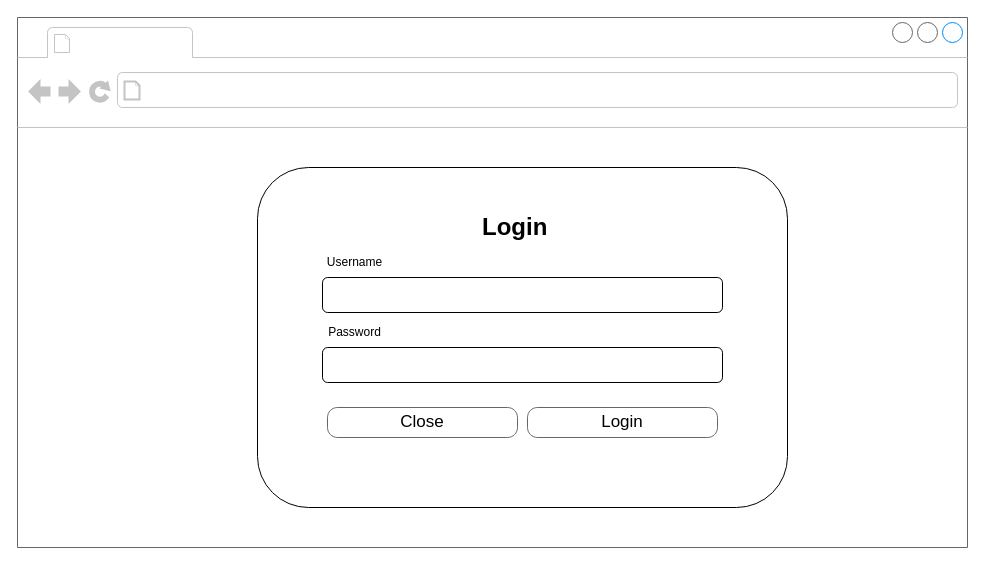
This 985x565 diagram has some shape labels left out. The centre of each missing label's shape, as x and y in pixels:
https://www.default.com: point 272,90
Page 1: point 132,42
